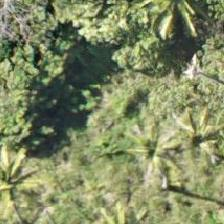Kelapa_Sawit: (0, 143, 52, 224)
